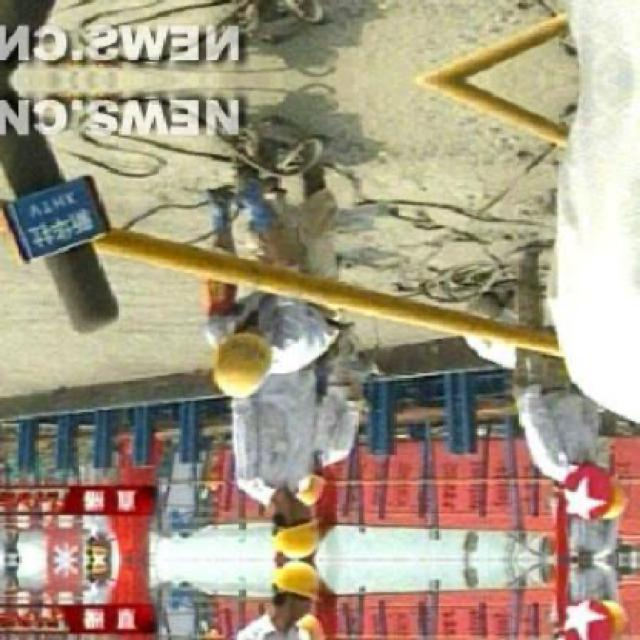con casco: (216, 426, 338, 549), (215, 285, 297, 404)
